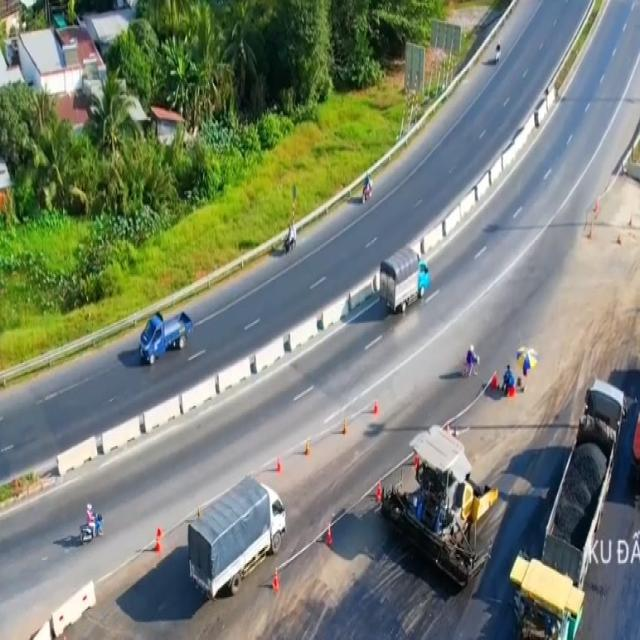motorbike: (78, 502, 102, 552), (284, 221, 297, 252), (362, 170, 374, 202)
truck: (184, 474, 286, 603), (380, 243, 432, 317), (138, 311, 193, 372)
